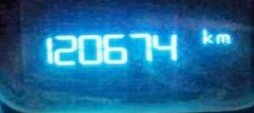0: (78, 32, 102, 66)
1: (40, 31, 53, 69)
2: (53, 32, 75, 68)
4: (152, 32, 182, 64)
6: (102, 32, 126, 66)
7: (129, 28, 151, 65)
X: (213, 31, 231, 46), (200, 26, 213, 43)
